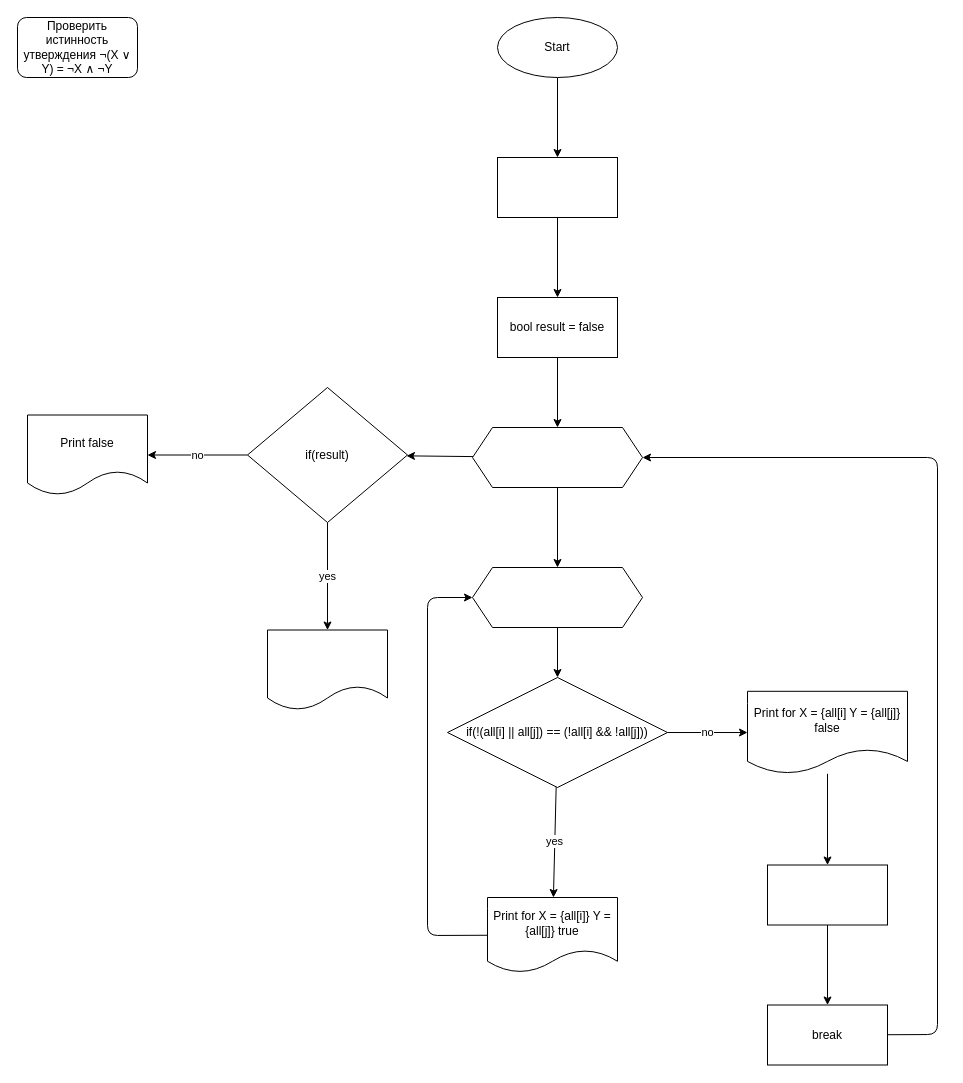
This 963x1083 diagram has some shape labels left out. Each missing label, with the centre of its shape:
"bool[] all = {true, false}" belongs at pixel 557 187.
"for(int i = 0; i < all.Length; i++)" belongs at pixel 557 457.
"for(int j = 0; j < all.Length; j++)" belongs at pixel 557 597.
"Print true" belongs at pixel 327 669.
"result = false" belongs at pixel 827 894.
